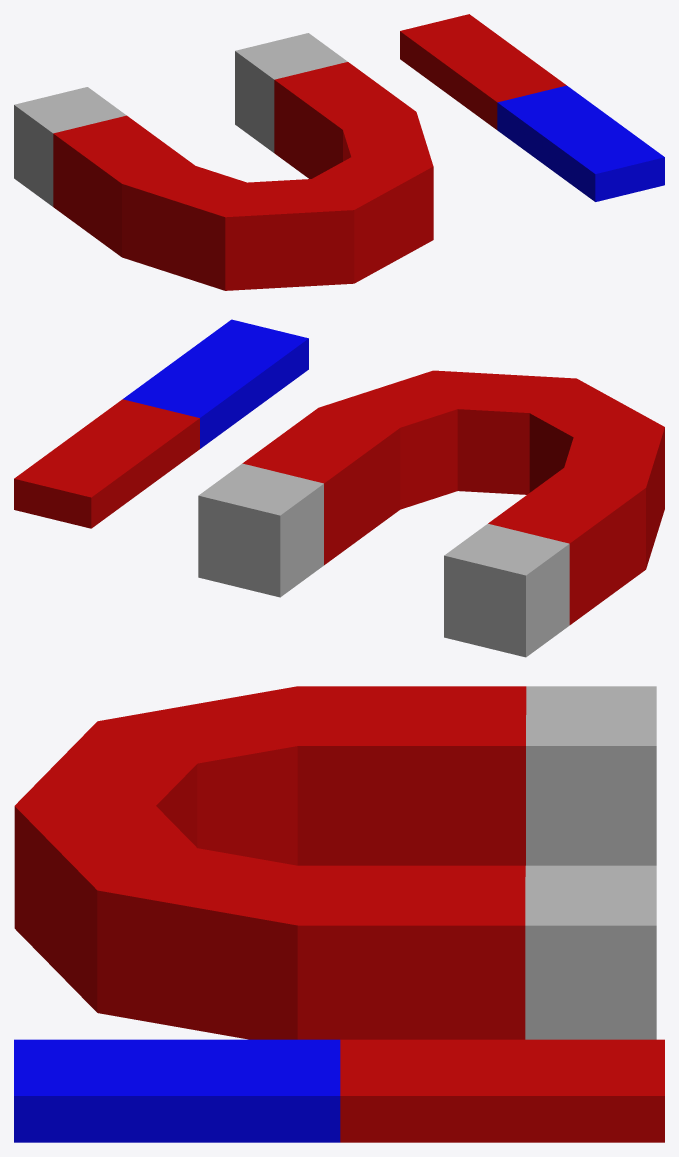
3 renders of one model, top to bottom at view 1: azimuth 30°, elevation 25°; view 2: azimuth 150°, elevation 25°; view 3: azimuth 270°, elevation 25°, orthographic. The views are drawn at different scales.
Visible parts, largest first — view 1: Node; view 2: Node; view 3: Node.
Part boxes in pixels (x1,y1,x2,y2): Node: (14,14,664,290); Node: (14,319,664,657); Node: (14,686,664,1142).
Bounding box in the file's own units: 3.11 × 0.4779 × 2.3.
